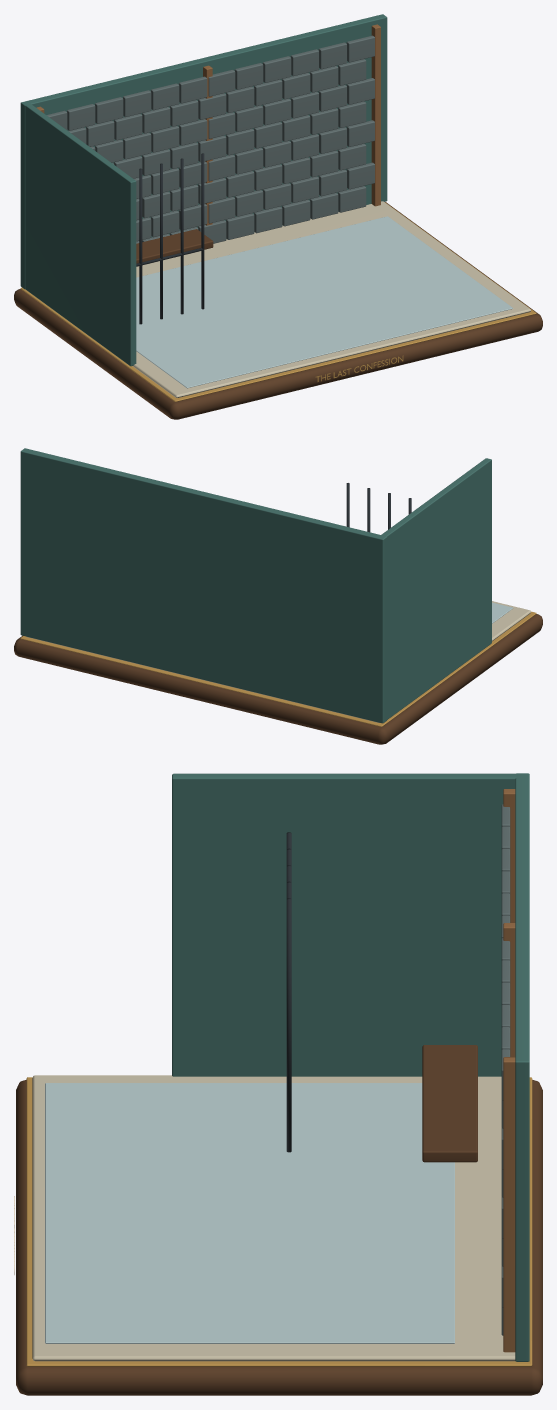
File: cell.glb
3 renders of one model, top to bottom at view 1: azimuth 30°, elevation 25°; view 2: azimuth 150°, elevation 25°; view 3: azimuth 270°, elevation 25°, orthographic. The views are drawn at different scales.
Parts seen in each view (by area): view 1: Wet floor, Cutaway side wall.002, Walnut display plinth.006, Rear plaster wall.002, Stage floor.006, Inset brass rim.006, Oak wall post.008, Cell bench, Masonry brick.088, Masonry brick.089, Masonry brick.091, Masonry brick.092 (+67 smaller); view 2: Rear plaster wall.002, Cutaway side wall.002, Walnut display plinth.006, Inset brass rim.006, Stage floor.006; view 3: Wet floor, Cutaway side wall.002, Stage floor.006, Walnut display plinth.006, Rear plaster wall.002, Cell bench, Inset brass rim.006, Oak wall post.008, Cell bars.004, Oak wall post.007, Oak wall post.006.
Part boxes in pixels (bbox=[...]): Wet floor: bbox=[136, 216, 513, 388]; Cutaway side wall.002: bbox=[25, 103, 136, 366]; Walnut display plinth.006: bbox=[14, 202, 542, 419]; Rear plaster wall.002: bbox=[20, 14, 387, 289]; Stage floor.006: bbox=[133, 201, 531, 397]; Inset brass rim.006: bbox=[20, 202, 536, 401]; Oak wall post.008: bbox=[371, 24, 380, 206]; Cell bench: bbox=[136, 229, 213, 263]; Masonry brick.088: bbox=[150, 83, 179, 110]; Masonry brick.089: bbox=[178, 76, 207, 103]; Masonry brick.091: bbox=[234, 63, 263, 89]; Masonry brick.092: bbox=[262, 56, 291, 82]; Rear plaster wall.002: bbox=[20, 448, 387, 723]; Cutaway side wall.002: bbox=[380, 458, 491, 719]; Walnut display plinth.006: bbox=[14, 614, 542, 744]; Inset brass rim.006: bbox=[20, 611, 536, 726]; Stage floor.006: bbox=[26, 601, 530, 722]; Wet floor: bbox=[45, 1083, 454, 1343]; Cutaway side wall.002: bbox=[172, 773, 521, 1076]; Stage floor.006: bbox=[32, 1075, 515, 1361]; Walnut display plinth.006: bbox=[16, 1079, 542, 1395]; Rear plaster wall.002: bbox=[515, 773, 529, 1361]; Cell bench: bbox=[422, 1045, 477, 1162]; Inset brass rim.006: bbox=[26, 1077, 532, 1366]; Oak wall post.008: bbox=[503, 1057, 515, 1352]; Cell bars.004: bbox=[286, 898, 291, 1152]; Oak wall post.007: bbox=[503, 923, 515, 1056]; Oak wall post.006: bbox=[503, 789, 515, 922].
Bounding box in the file's own units: 7.2 × 3.78 × 5.42.
